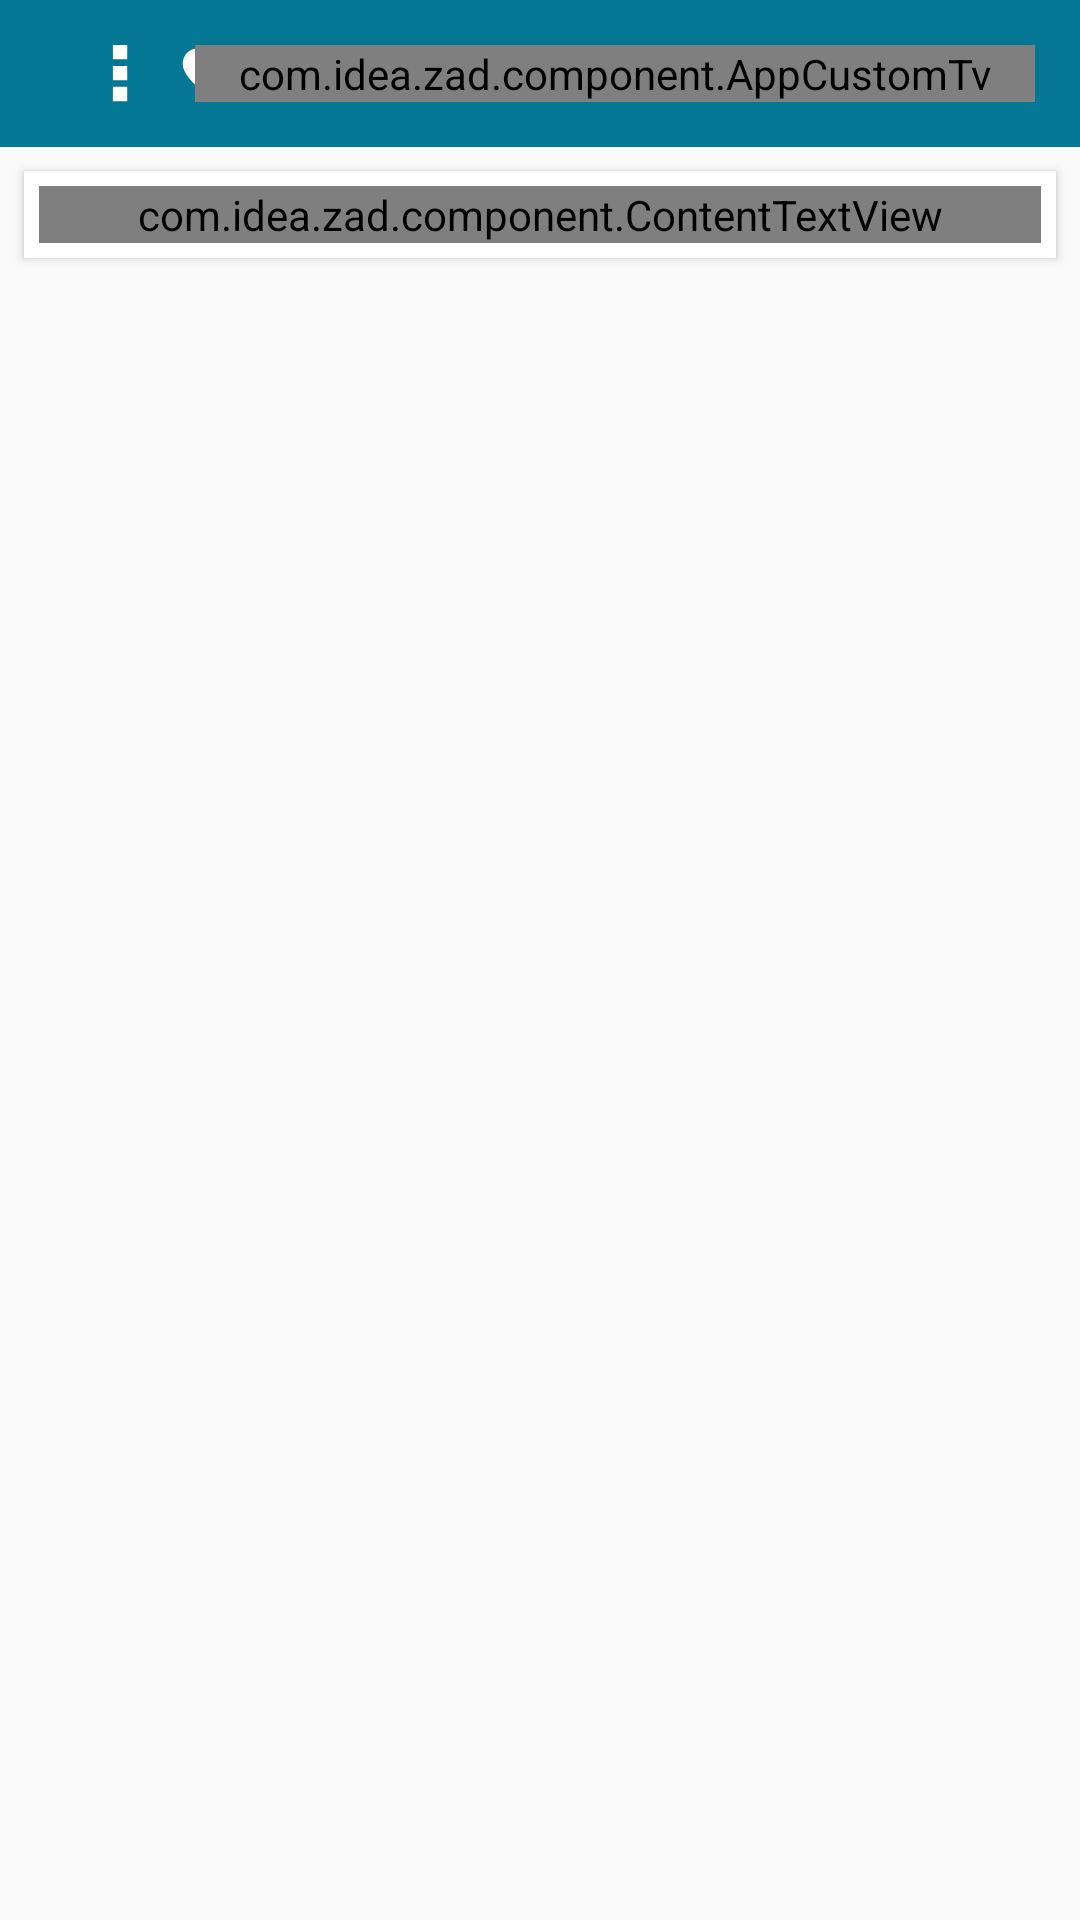

Icons on this 1080 x 1920 Android screen, each with its box as region(x1, y1, x2, y2):
overflow: region(112, 45, 128, 102)
